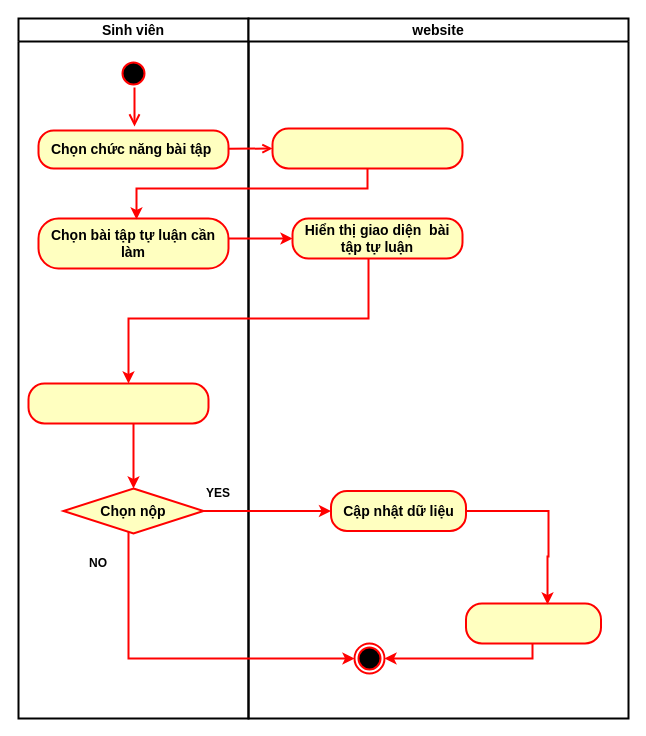
Image size: 646x736. Some labels were removed from this diagram. The centre of each missing label's shape, as x and y in pixels:
"Chọn file bài tập tự luận cần nộp" goes at [118,403].
"Hiển thị giao diện bài tập cho sinh viên" goes at [367,148].
"Thông báo kết quả cho sinh viên" goes at [533,623].
